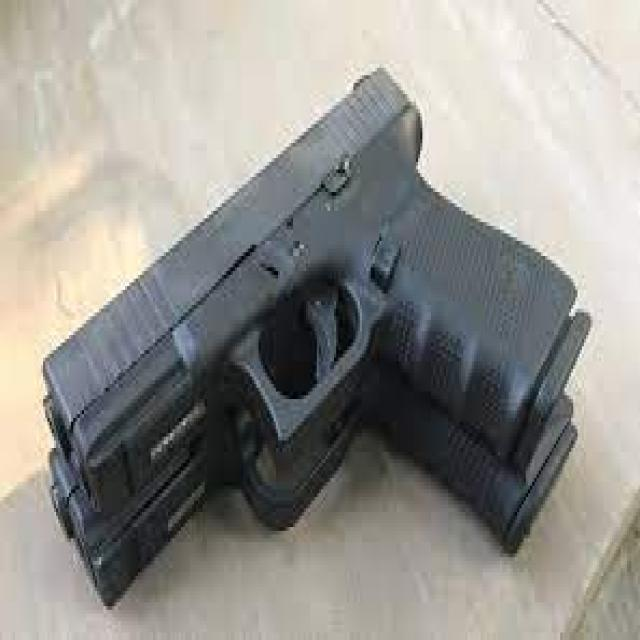Gun: (31, 62, 599, 619)
